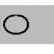no answer: (1, 11, 31, 36)
